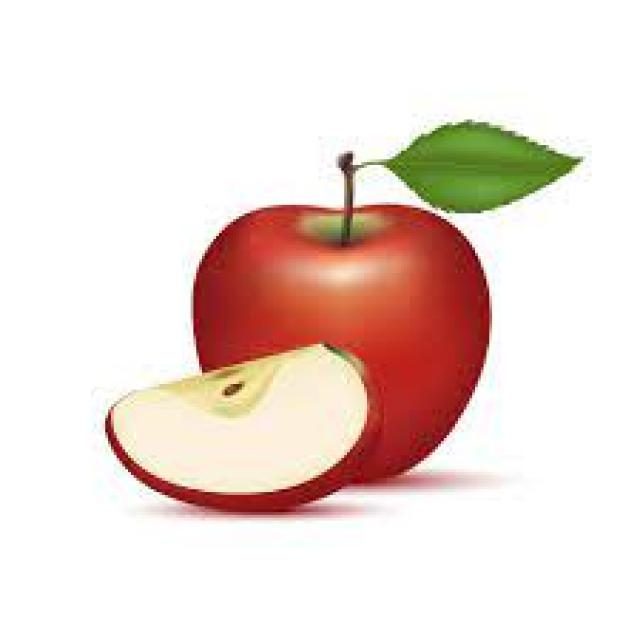Apple: (191, 114, 497, 481), (89, 355, 379, 513)
